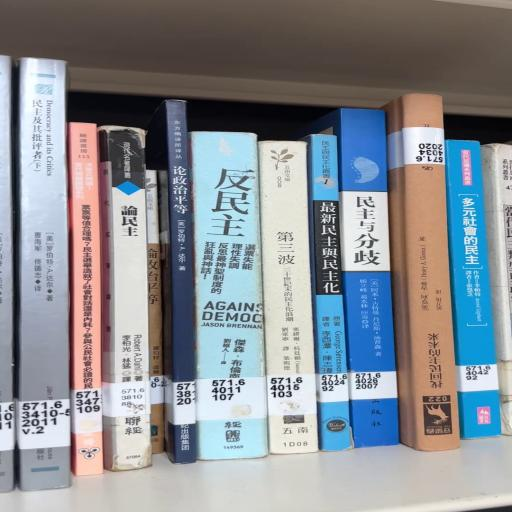reverse: (384, 95, 460, 452)
